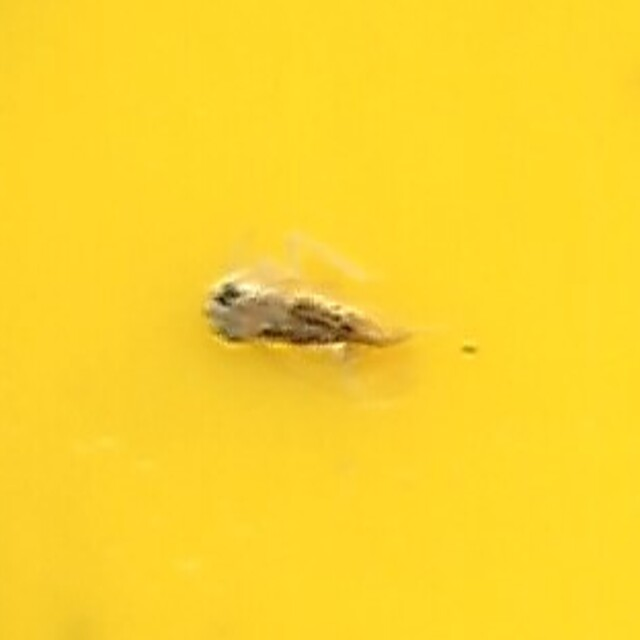Hemiptera: (205, 263, 435, 377)
